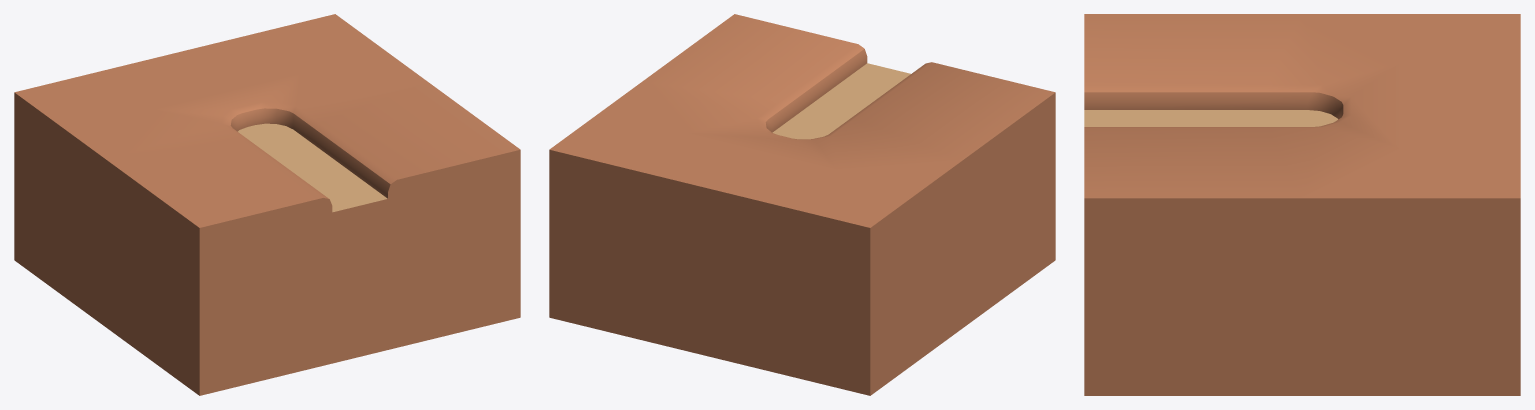
Rendered from kaykit-square-rock-roada.glb.
3 views of the same model, side by side, from view 1: azimuth 30°, elevation 25°; view 2: azimuth 150°, elevation 25°; view 3: azimuth 270°, elevation 25° (orthographic). The views are drawn at different scales.
Parts seen in each view (by area): view 1: square_rock_roadA; view 2: square_rock_roadA; view 3: square_rock_roadA.
Part boxes in pixels (x1,y1,x2,y2): square_rock_roadA: [14, 14, 520, 395]; square_rock_roadA: [549, 14, 1055, 395]; square_rock_roadA: [1084, 14, 1520, 395].
Size of the model in its own units: 2 by 0.9998 by 2.
